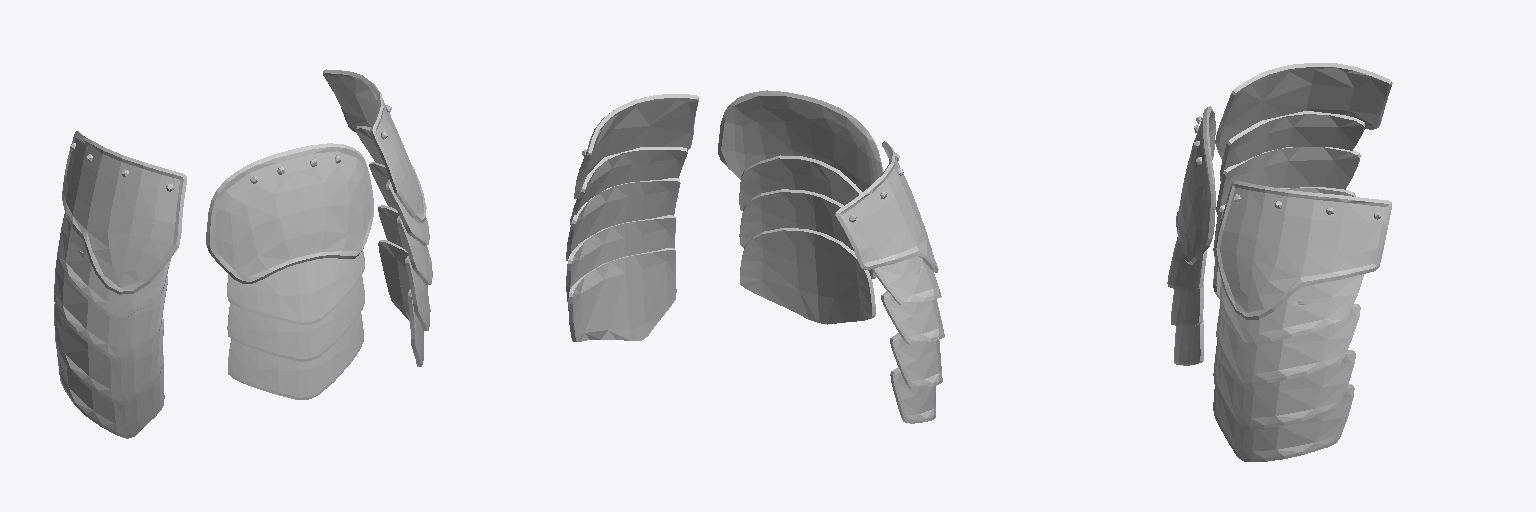
The model's file is protection_ceinture.obj.
3 renders of one model, left to right at view 1: azimuth 30°, elevation 25°; view 2: azimuth 150°, elevation 25°; view 3: azimuth 270°, elevation 25°, orthographic.
Parts seen in each view (by area): view 1: Soi_SimpleArmor_Sideguards_Plane.394, Soi_SimpleArmor_Frontuards_Plane.415; view 2: Soi_SimpleArmor_Sideguards_Plane.394, Soi_SimpleArmor_Frontuards_Plane.415; view 3: Soi_SimpleArmor_Sideguards_Plane.394, Soi_SimpleArmor_Frontuards_Plane.415.
Boxes of the visible parts, <box> form: Soi_SimpleArmor_Sideguards_Plane.394: <box>54,69,432,438</box>; Soi_SimpleArmor_Frontuards_Plane.415: <box>206,143,373,399</box>; Soi_SimpleArmor_Sideguards_Plane.394: <box>566,94,944,423</box>; Soi_SimpleArmor_Frontuards_Plane.415: <box>718,90,882,324</box>; Soi_SimpleArmor_Sideguards_Plane.394: <box>1213,63,1392,461</box>; Soi_SimpleArmor_Frontuards_Plane.415: <box>1167,106,1215,365</box>.
Size of the model in its own units: 0.4693 by 0.3387 by 0.2588.